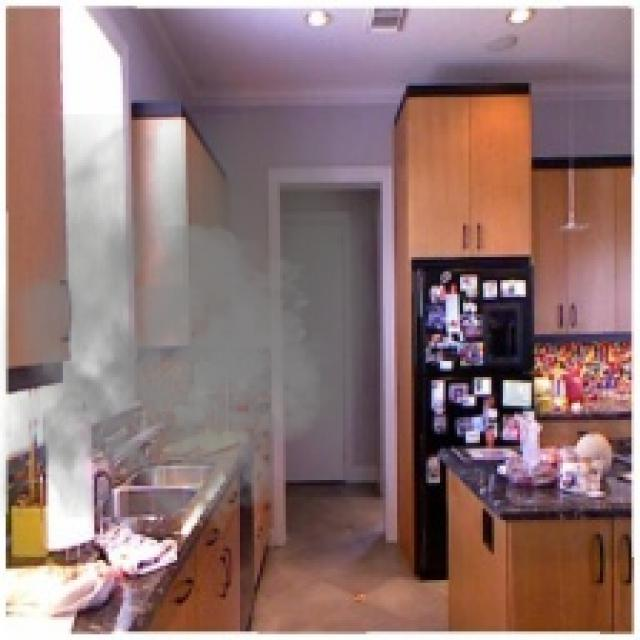smoke: (0, 114, 383, 532)
